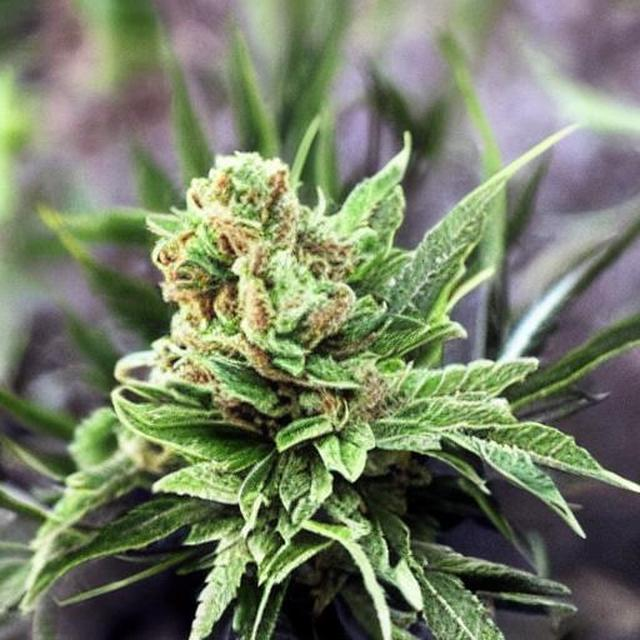Marijuana Plant: (85, 14, 565, 469)
